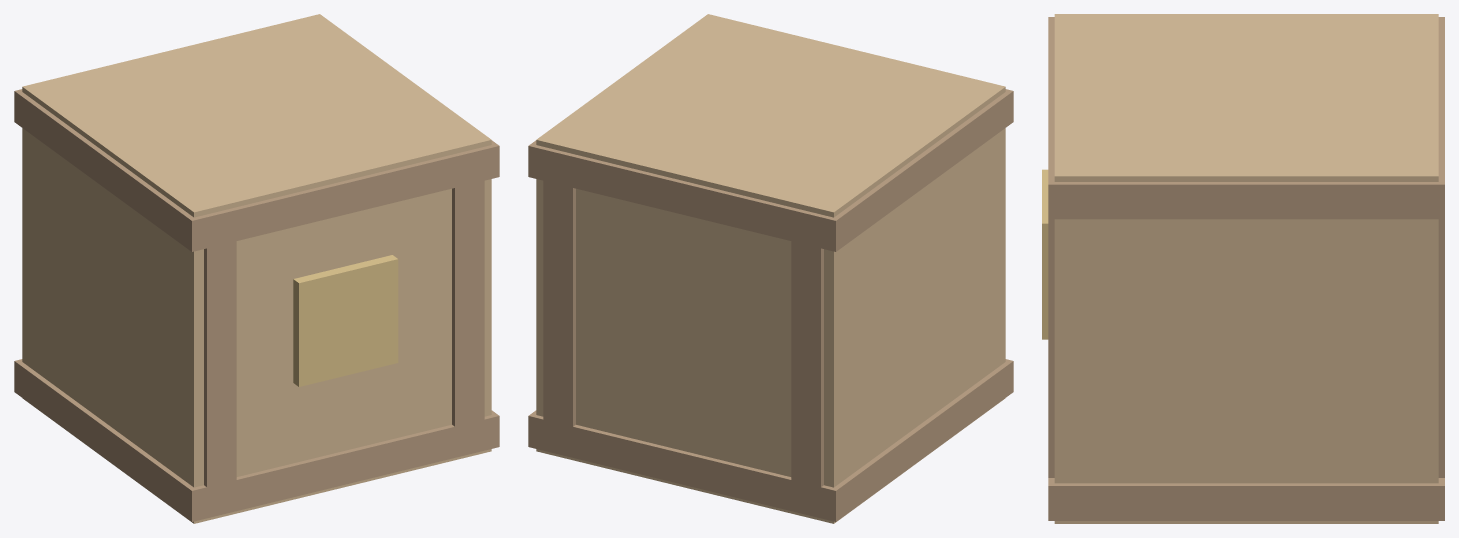
Rendered from crate.glb.
3 views of the same model, side by side, from view 1: azimuth 30°, elevation 25°; view 2: azimuth 150°, elevation 25°; view 3: azimuth 270°, elevation 25° (orthographic). The views are drawn at different scales.
Visible parts, largest first — view 1: crate; view 2: crate; view 3: crate.
Part boxes in pixels (<box>): crate: <box>14,14,499,523</box>; crate: <box>528,14,1013,523</box>; crate: <box>1042,14,1444,523</box>.
Bounding box in the file's own units: 1.24 × 1.2 × 1.26.
